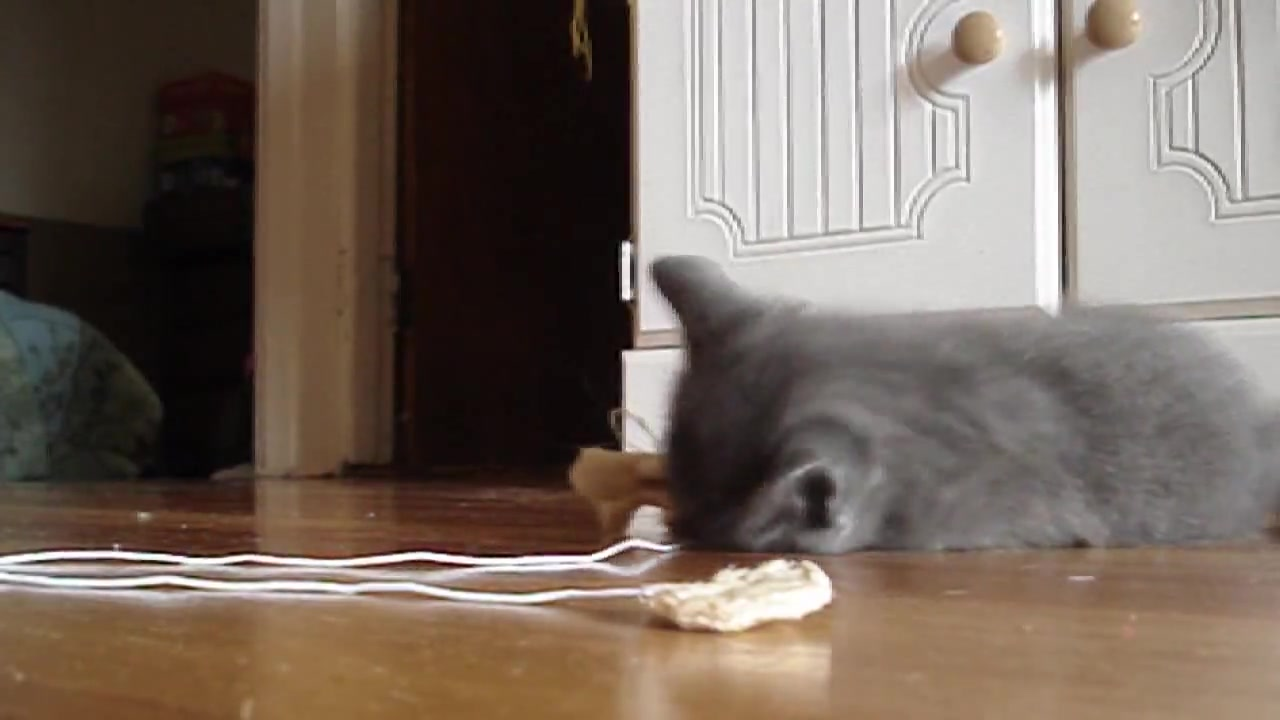cat: (647, 251, 1279, 555)
